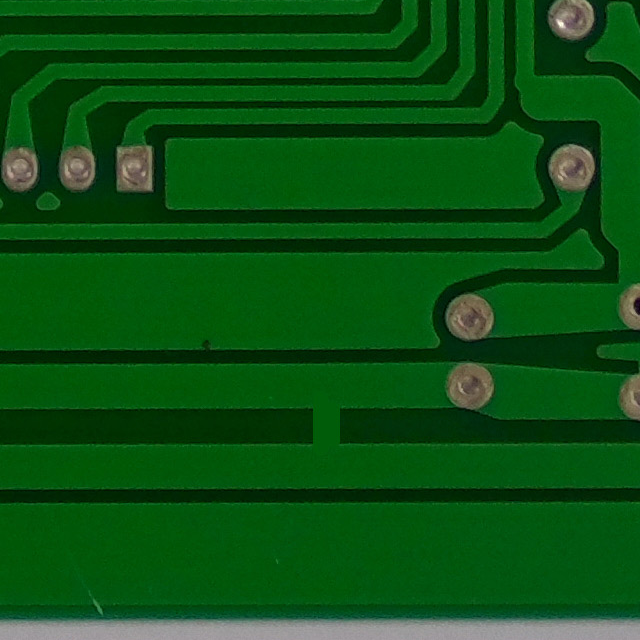short: (262, 383, 379, 471)
